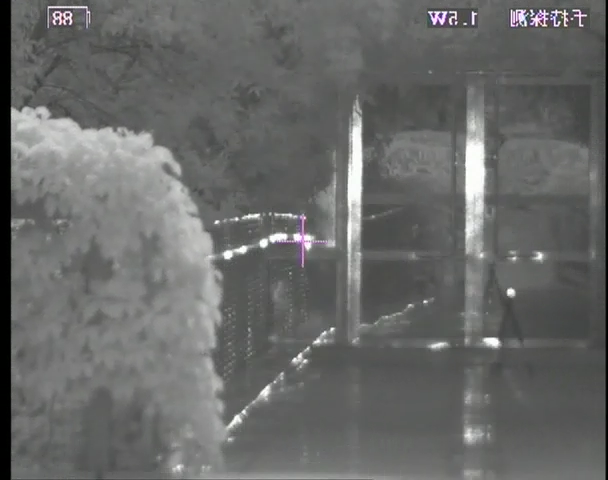my: (505, 286, 517, 299)
